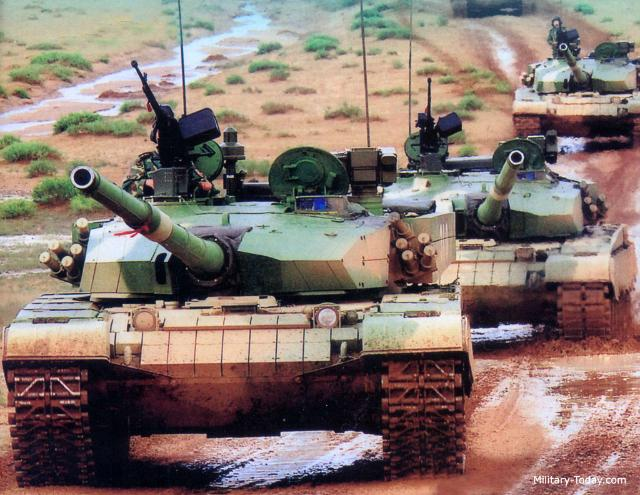other: (129, 121, 171, 197), (544, 14, 564, 51)
tank: (10, 107, 468, 462), (402, 140, 618, 305), (515, 45, 639, 151)
